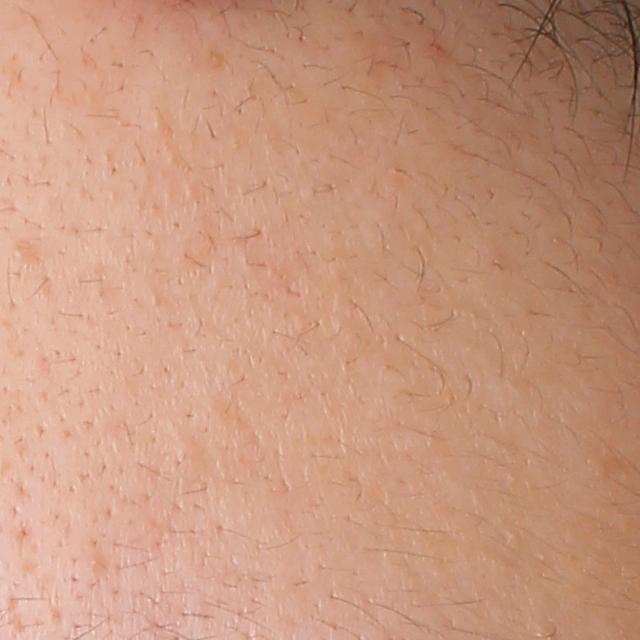comedo: (149, 114, 168, 134)
